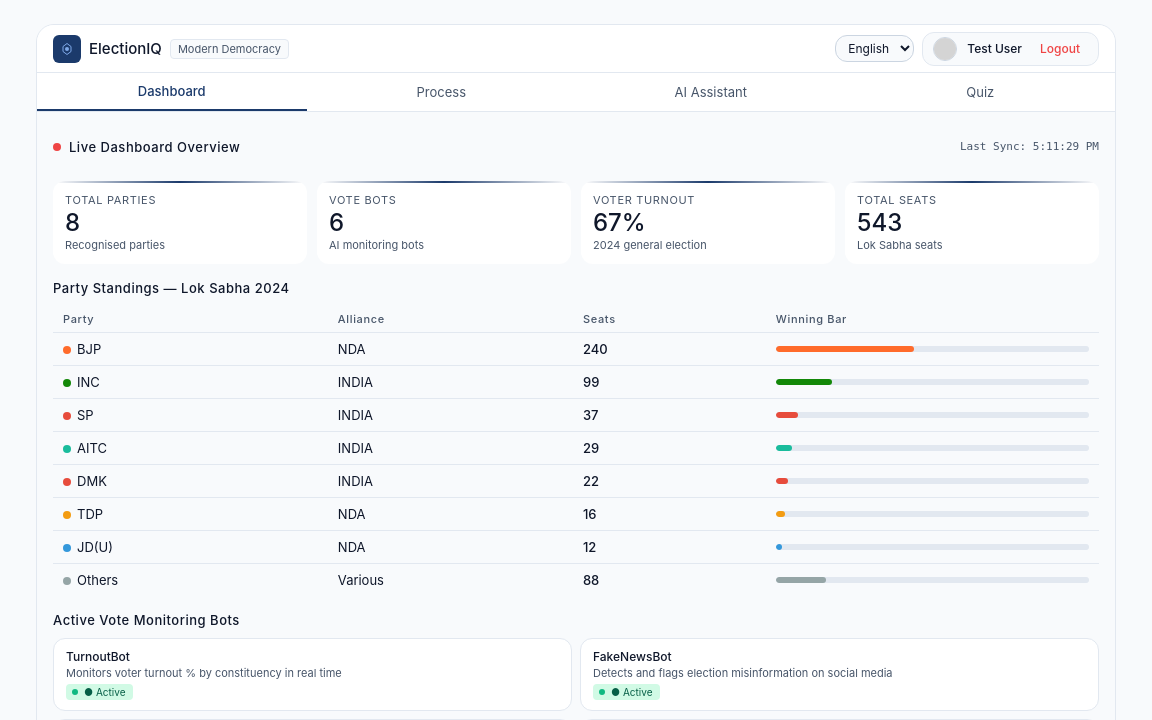
Test case: submits a chat message and renders the AI response
Click the tab "AI Assistant" at (711, 92), box [576,73,846,111]
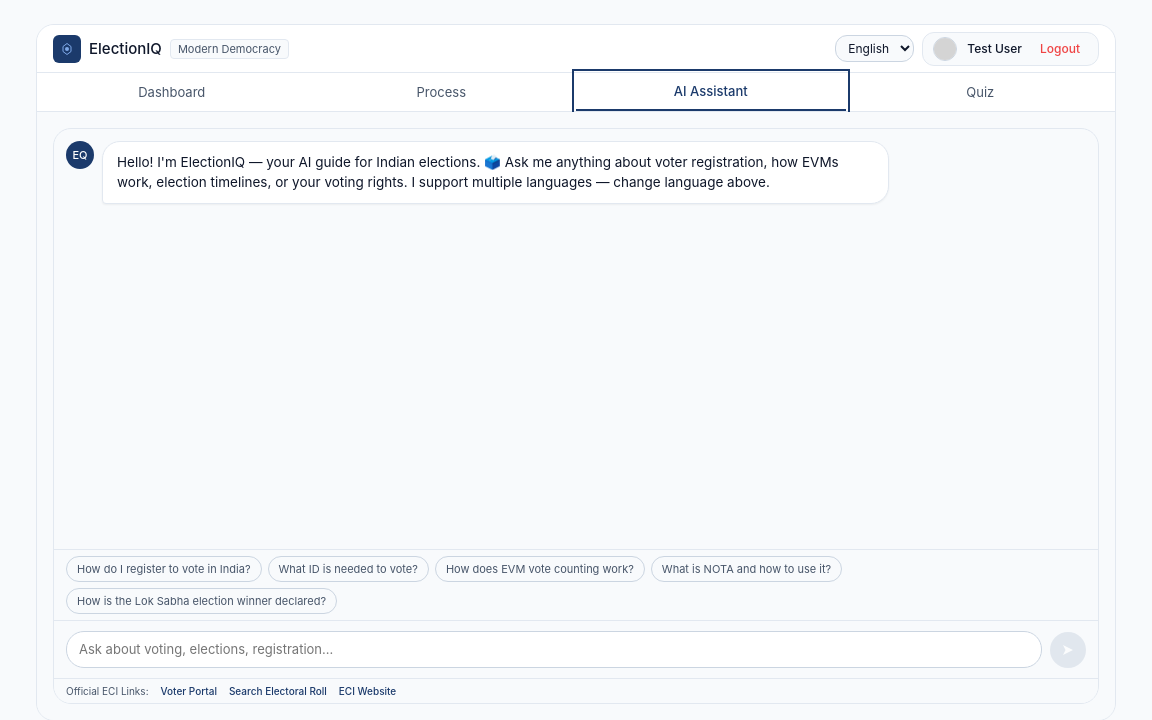
Type "What is voting?" into the text box with placeholder "Ask about voting, elections, registration…" at (554, 649), box [66,630,1042,668]
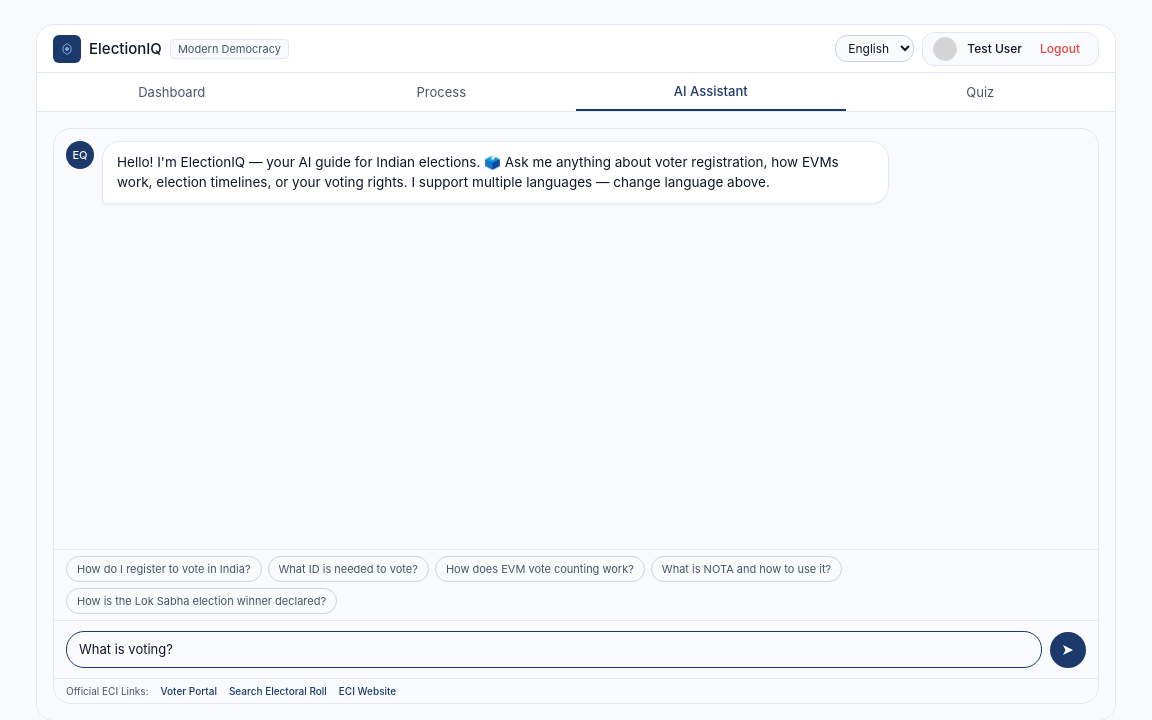
Click the button named "Send message" at (1068, 650), box [1050,632,1086,668]
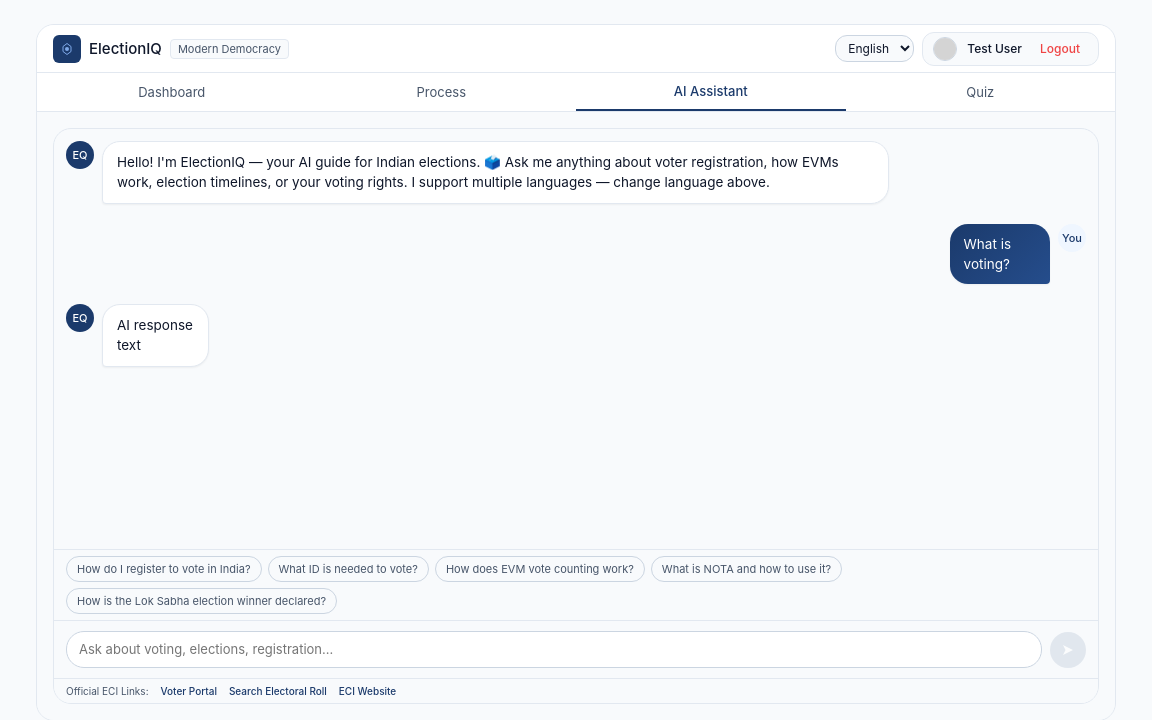
Now the text "AI response text" is shown, box [102,304,209,366]
